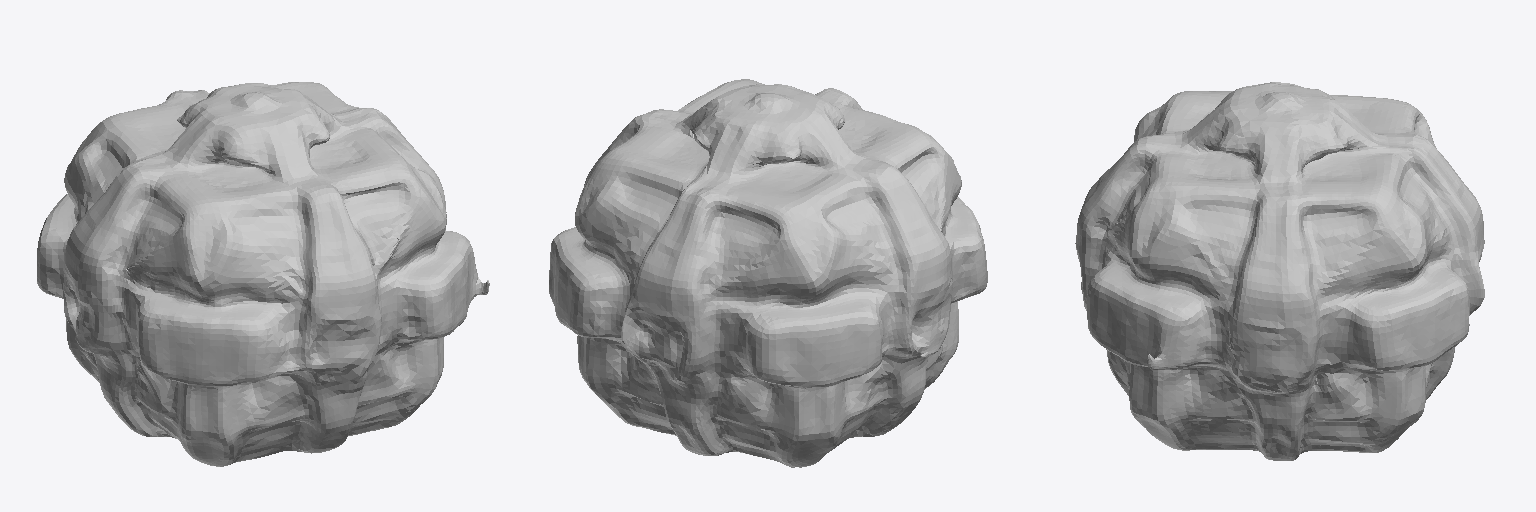
The model's file is 9e132412e8c2_a_large_sci_fi_plas.obj.
3 views of the same model, side by side, from view 1: azimuth 30°, elevation 25°; view 2: azimuth 150°, elevation 25°; view 3: azimuth 270°, elevation 25° (orthographic).
Parts seen in each view (by area): view 1: mesh; view 2: mesh; view 3: mesh.
Part boxes in pixels (x1,y1,x2,y2): mesh: (37,82,489,466); mesh: (549,79,987,467); mesh: (1075,82,1484,460).
Size of the model in its own units: 0.9975 by 0.8592 by 0.9959.